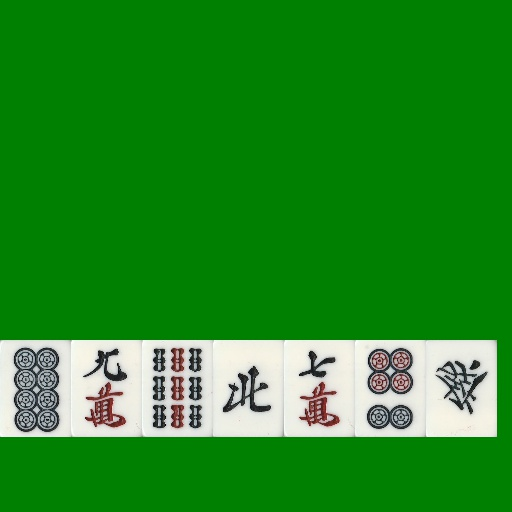6p: (355, 340, 426, 437)
7m: (284, 340, 355, 437)
8p: (0, 340, 71, 437)
9m: (71, 340, 142, 437)
9s: (142, 340, 213, 437)
hatsu: (426, 340, 497, 437)
north: (213, 340, 284, 437)
